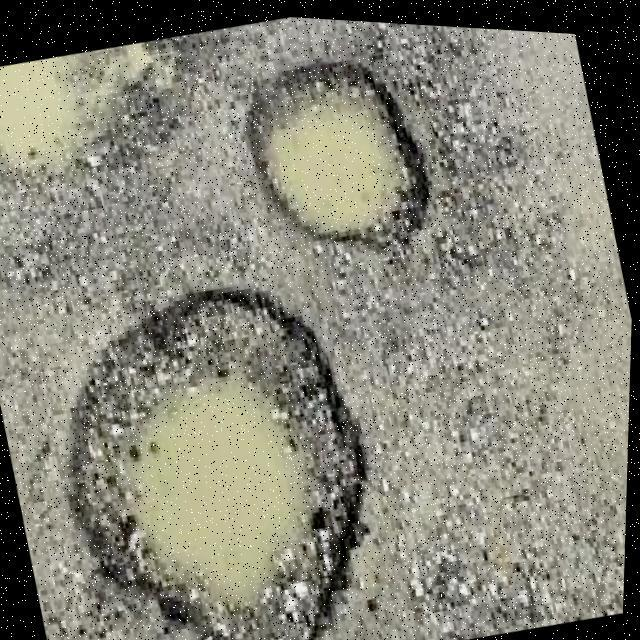pothole: (25, 246, 415, 640), (227, 29, 449, 276)
